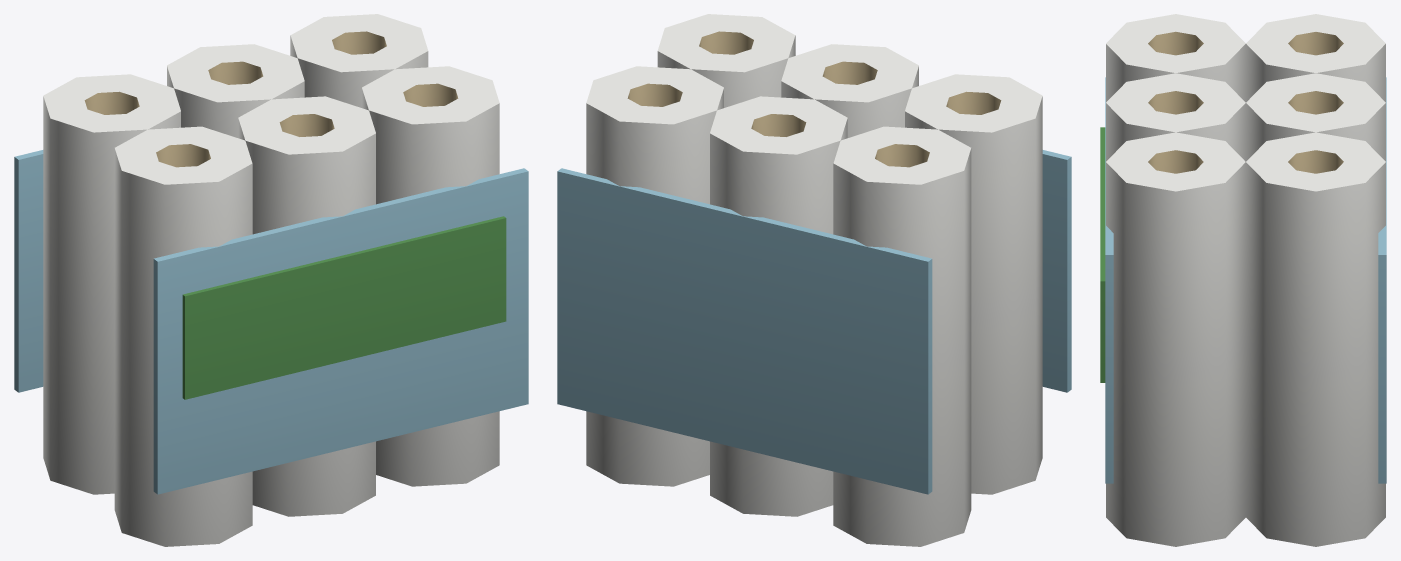
Rendered from Pack_PaperTowel_6_01.glb.
The picture shows the model from 3 angles, left to right: view 1: azimuth 30°, elevation 25°; view 2: azimuth 150°, elevation 25°; view 3: azimuth 270°, elevation 25°; orthographic projection.
Parts seen in each view (by area): view 1: SM_Pack_PaperTowel_6_01; view 2: SM_Pack_PaperTowel_6_01; view 3: SM_Pack_PaperTowel_6_01.
Part boxes in pixels (bbox=[...]): SM_Pack_PaperTowel_6_01: bbox=[14, 14, 528, 546]; SM_Pack_PaperTowel_6_01: bbox=[557, 14, 1071, 546]; SM_Pack_PaperTowel_6_01: bbox=[1100, 14, 1386, 546].
Bounding box in the file's own units: 0.3 × 0.28 × 0.2045.
1 material, 1 textured.
